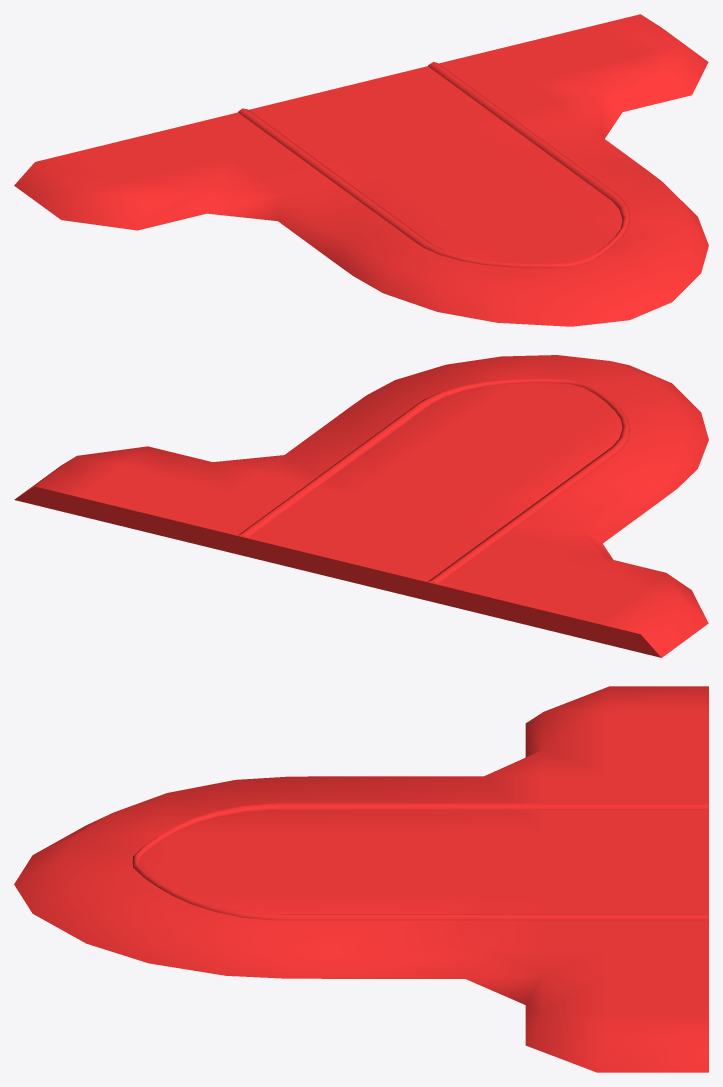
File: Floor_Mash.fbx
3 renders of one model, top to bottom at view 1: azimuth 30°, elevation 25°; view 2: azimuth 150°, elevation 25°; view 3: azimuth 270°, elevation 25°, orthographic. The views are drawn at different scales.
Parts seen in each view (by area): view 1: floor_LOW; view 2: floor_LOW; view 3: floor_LOW.
Part boxes in pixels (x1=…): floor_LOW: x1=14, y1=14, x2=708, y2=326; floor_LOW: x1=14, y1=355, x2=708, y2=657; floor_LOW: x1=14, y1=686, x2=708, y2=1072.
Bounding box in the file's own units: 13.19 × 0.4198 × 10.29.
